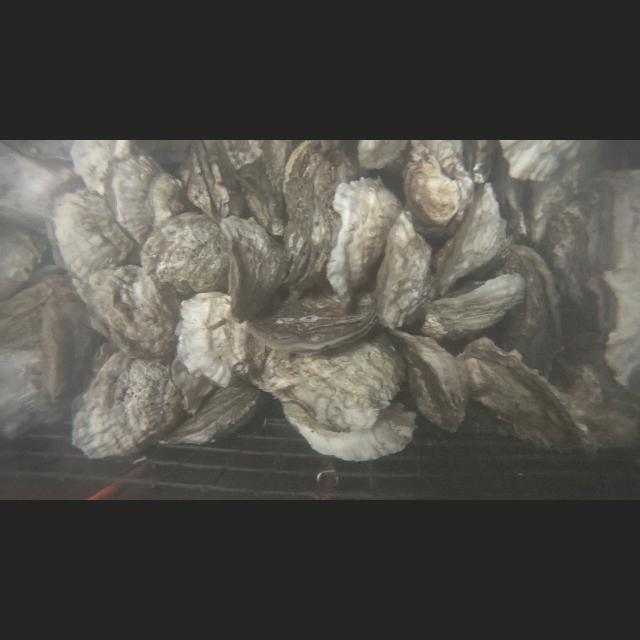Oyster-Closed: (550, 170, 640, 394), (244, 331, 401, 433), (456, 337, 584, 449), (0, 276, 82, 434), (70, 140, 190, 240), (283, 140, 357, 294), (72, 352, 174, 460), (72, 266, 182, 362), (326, 177, 402, 305), (53, 180, 137, 274), (282, 402, 414, 461), (218, 216, 288, 322), (566, 358, 640, 454), (142, 214, 232, 292), (174, 292, 246, 388), (249, 299, 377, 351), (427, 274, 525, 338), (224, 140, 288, 236), (378, 212, 430, 328), (406, 140, 474, 226), (510, 169, 570, 243), (484, 162, 534, 240), (502, 140, 590, 183), (355, 140, 409, 168), (83, 337, 117, 379)
Oyster-Open: (382, 328, 466, 434), (431, 183, 504, 297), (508, 240, 564, 372), (164, 376, 260, 444), (187, 140, 230, 218), (165, 358, 219, 416), (456, 140, 496, 190)
